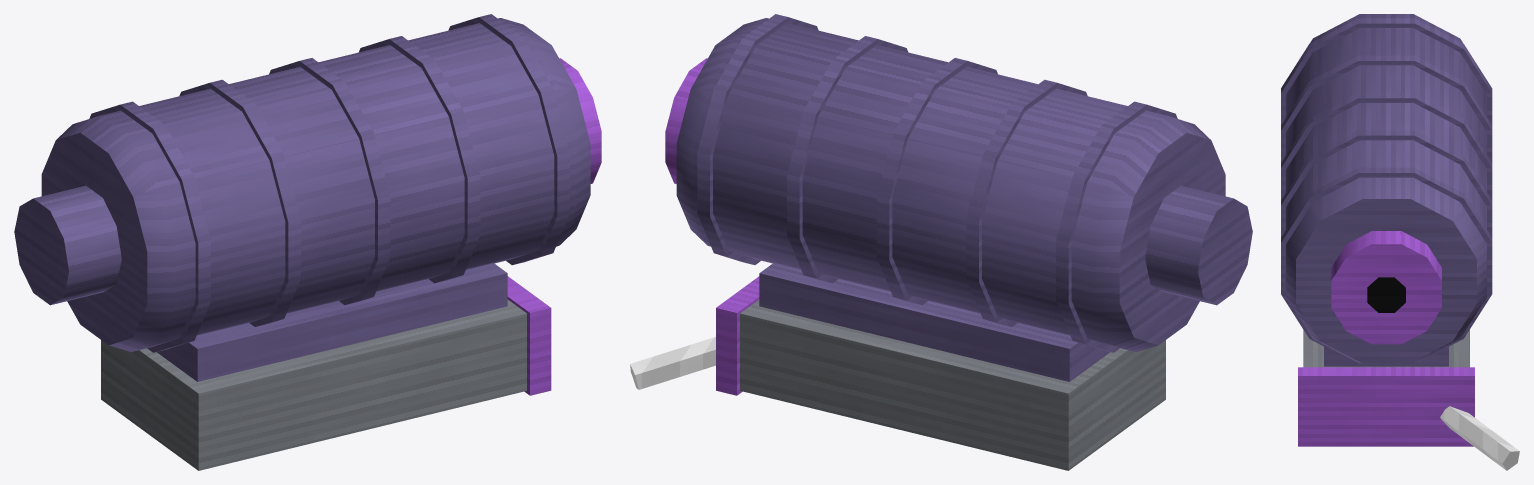
The model's file is compressor_n5.glb.
3 renders of one model, left to right at view 1: azimuth 30°, elevation 25°; view 2: azimuth 150°, elevation 25°; view 3: azimuth 270°, elevation 25°, orthographic. The views are drawn at different scales.
Visible parts, largest first — view 1: compressor_n5; view 2: compressor_n5; view 3: compressor_n5.
Boxes of the visible parts, x1,y1,x2,y2 form: compressor_n5: [14, 14, 601, 470]; compressor_n5: [630, 14, 1252, 470]; compressor_n5: [1281, 14, 1519, 470].
Size of the model in its own units: 0.503 by 0.2939 by 0.2295.
Materials: 3 (3 with a texture image).
